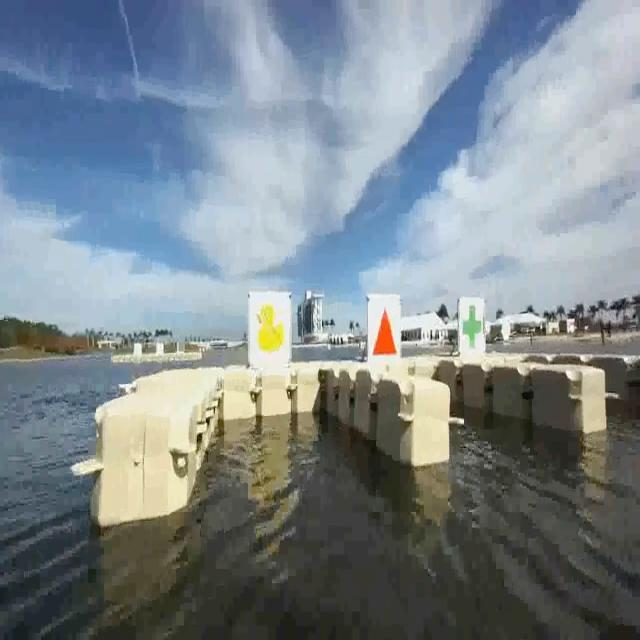blue-cross: (461, 298, 485, 358)
red-dot: (372, 301, 398, 364)
yellow-duck: (257, 301, 285, 353)
